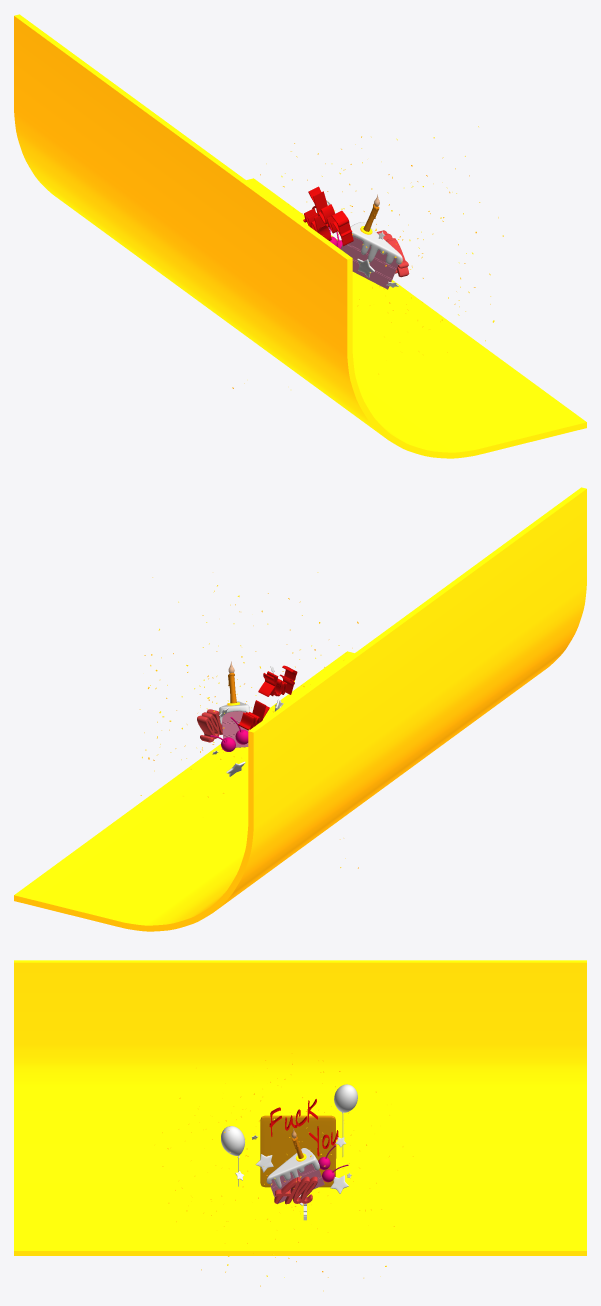
The picture shows the model from 3 angles, top to bottom: view 1: azimuth 30°, elevation 25°; view 2: azimuth 150°, elevation 25°; view 3: azimuth 270°, elevation 25°; orthographic projection. The views are drawn at different scales.
Parts seen in each view (by area): view 1: Background_0, 3D Text 2_16, Cake_7, Cream_8; view 2: Background_0, 3D Text 2_16, 3D Text_14; view 3: Background_0, Rectangle_3, Baloons_5, 3D Text_14, Cream_8, 3D Text 2_16, Stars_4, Cake_7.
Boxes of the visible parts, x1,y1,x2,y2 form: Background_0: (14,14,586,458); 3D Text 2_16: (303,186,353,246); Cake_7: (340,236,398,289); Cream_8: (350,222,402,264); Background_0: (14,487,586,931); 3D Text 2_16: (238,665,297,730); 3D Text_14: (197,709,222,742); Background_0: (14,960,586,1255); Rectangle_3: (260,1115,336,1187); Baloons_5: (221,1084,357,1186); 3D Text_14: (274,1176,317,1204); Cream_8: (266,1148,319,1188); 3D Text 2_16: (269,1099,338,1156); Stars_4: (235,1135,351,1205); Cake_7: (269,1164,324,1203).
Bounding box in the file's own units: 4.22 × 3.73 × 8.31.
